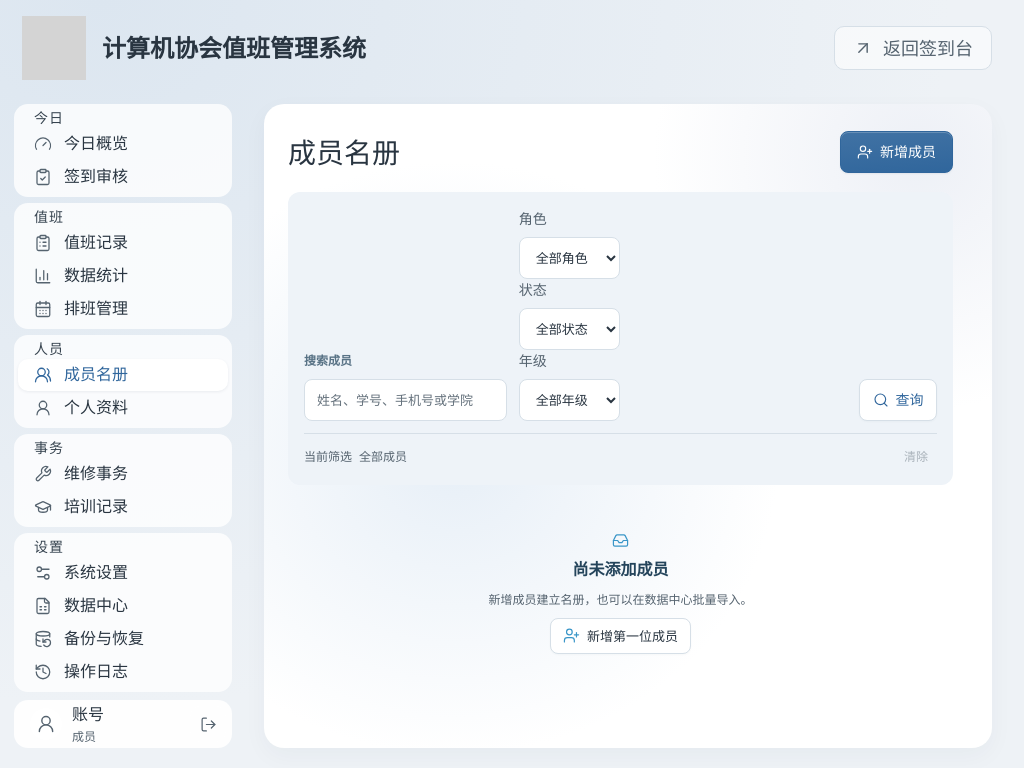
Test: MembersPage empty results › uses the last successful query for its empty guidance, not the unsubmitted draft
Type "不存在的成员" into the search field named "memberKeyword".
click(405, 400); type("不存在的成员")  # box [304,379,507,421]
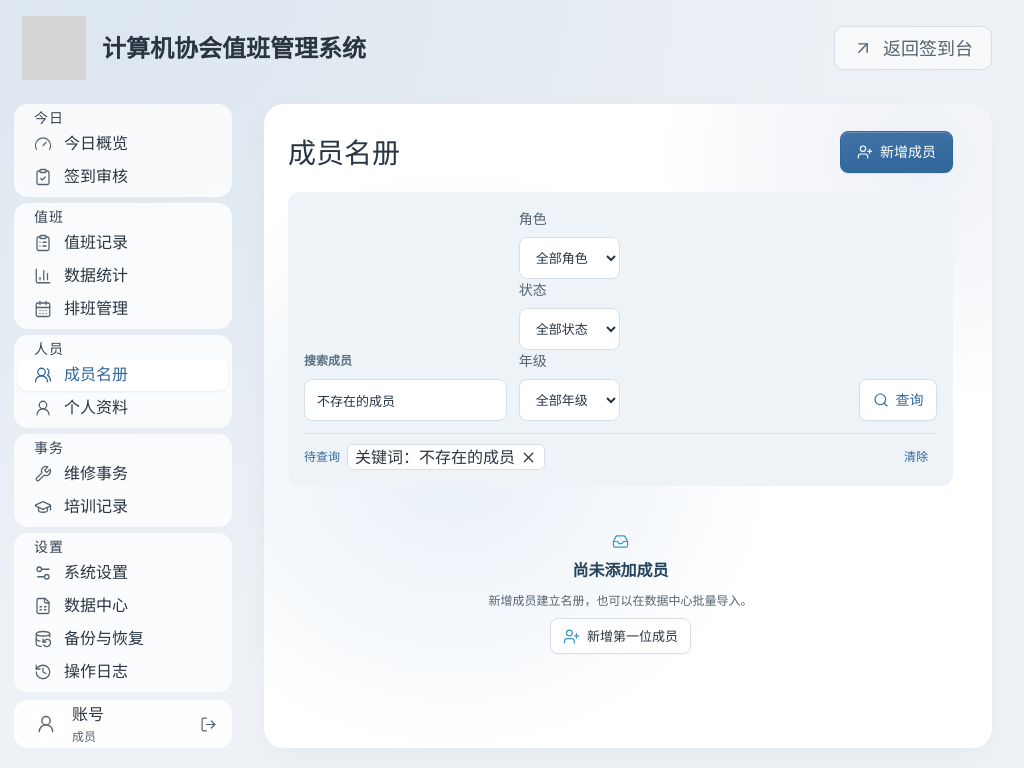
Expected: the text "尚未添加成员" is shown, [572,558,668,583]
Submit the form with class "mw-filter", box [288,192,953,486]
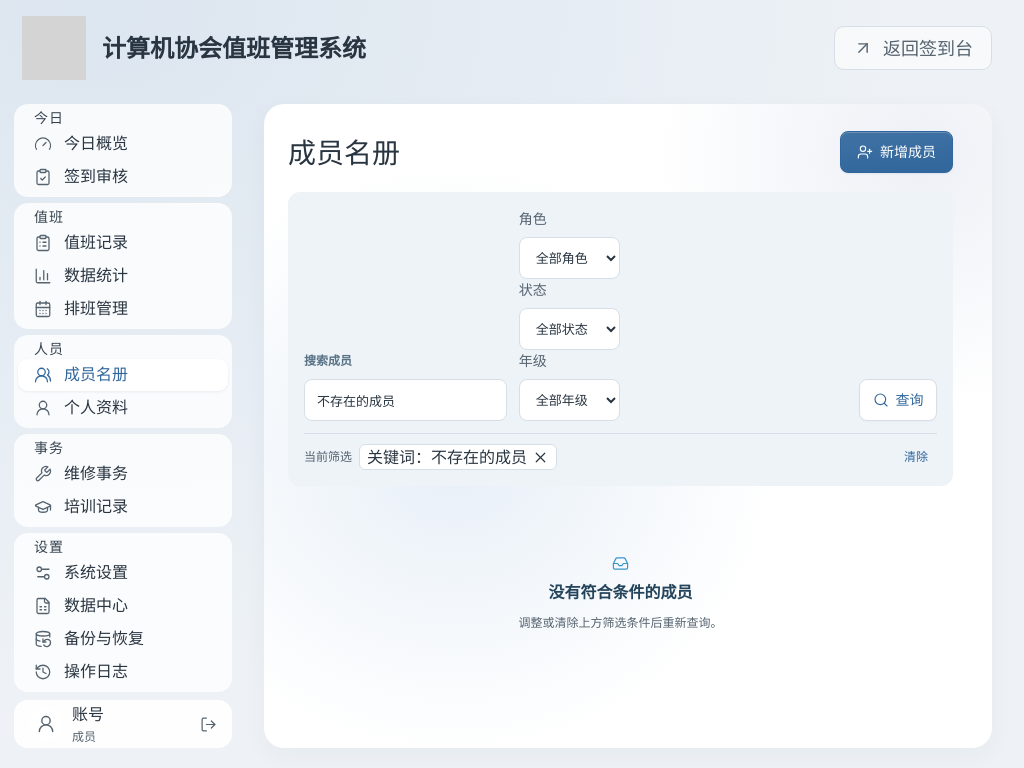
Result: the text "没有符合条件的成员" is shown at [548,580,692,605]
Result: the text "新增第一位成员" is gone
Clear the search field named "memberKeyword" at [405, 400], box [304,379,507,421]
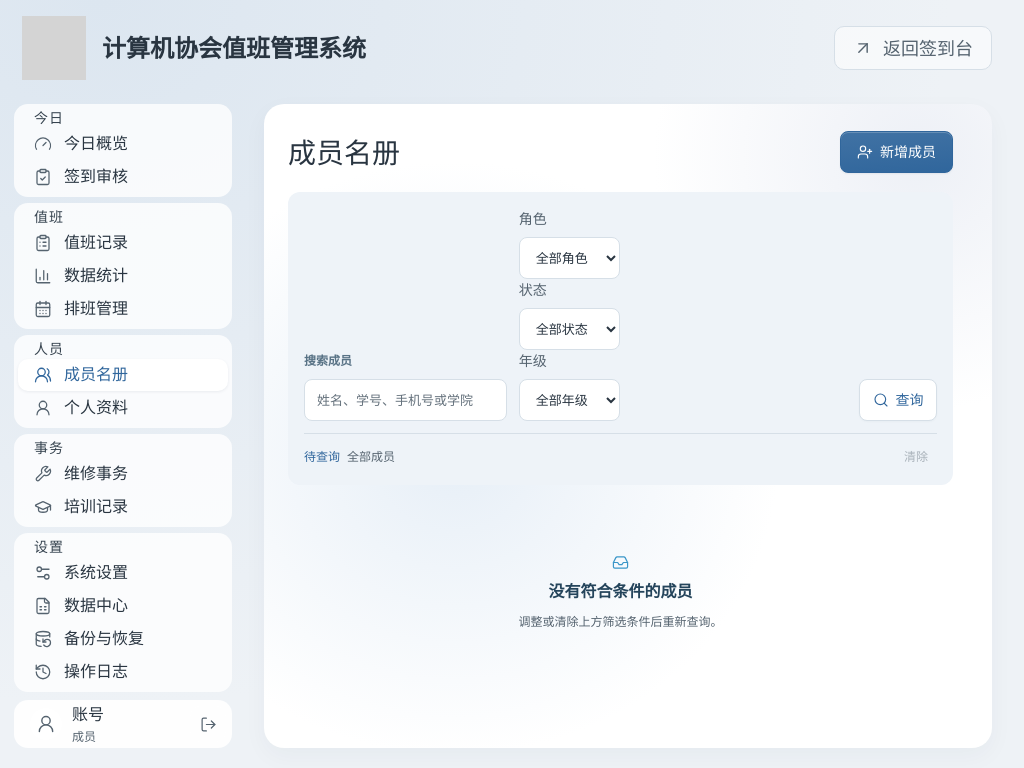
Result: the text "没有符合条件的成员" is shown at [548,579,692,604]
Submit the form with class "mw-filter", box [288,192,953,485]
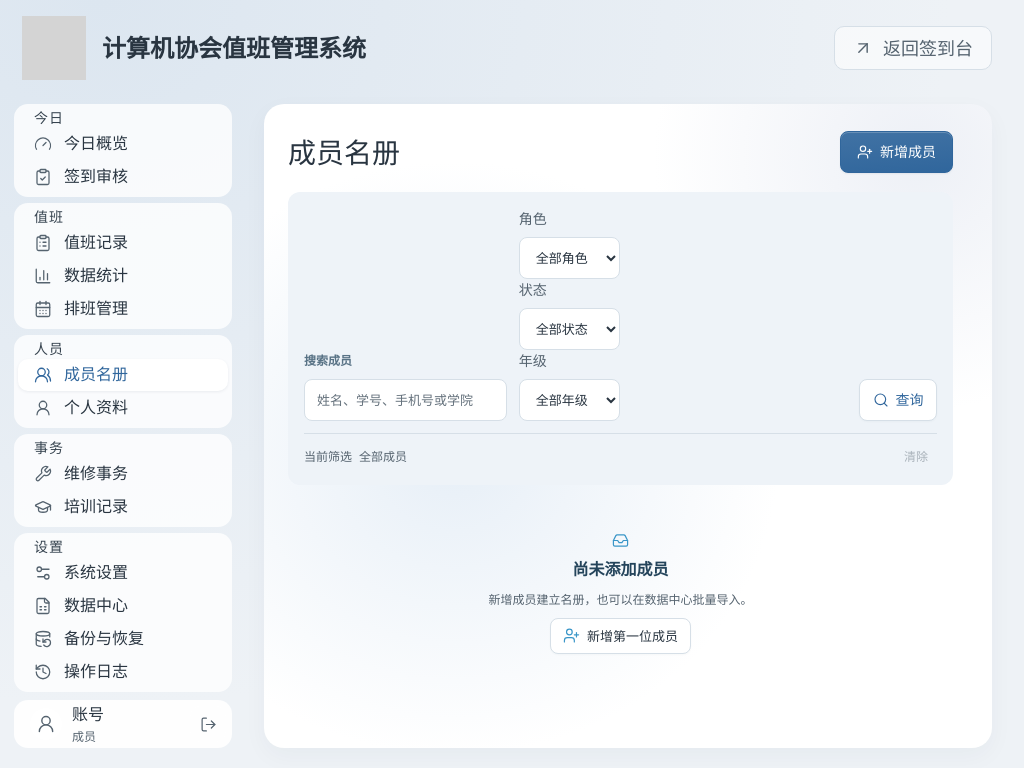
Result: the text "新增第一位成员" is shown at [550,618,691,654]
